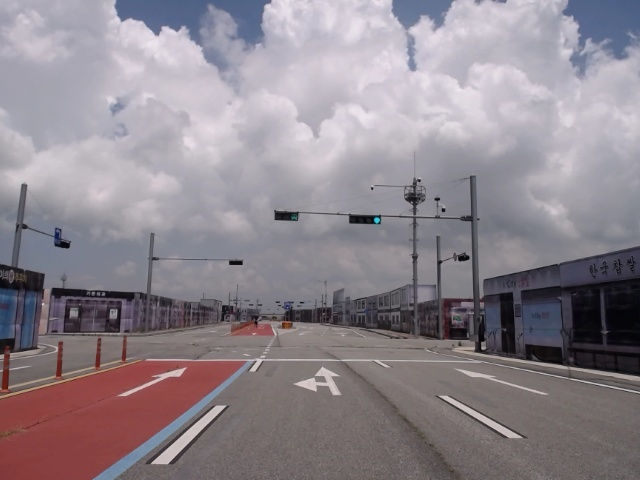straight_green_4: (348, 215, 382, 226)
